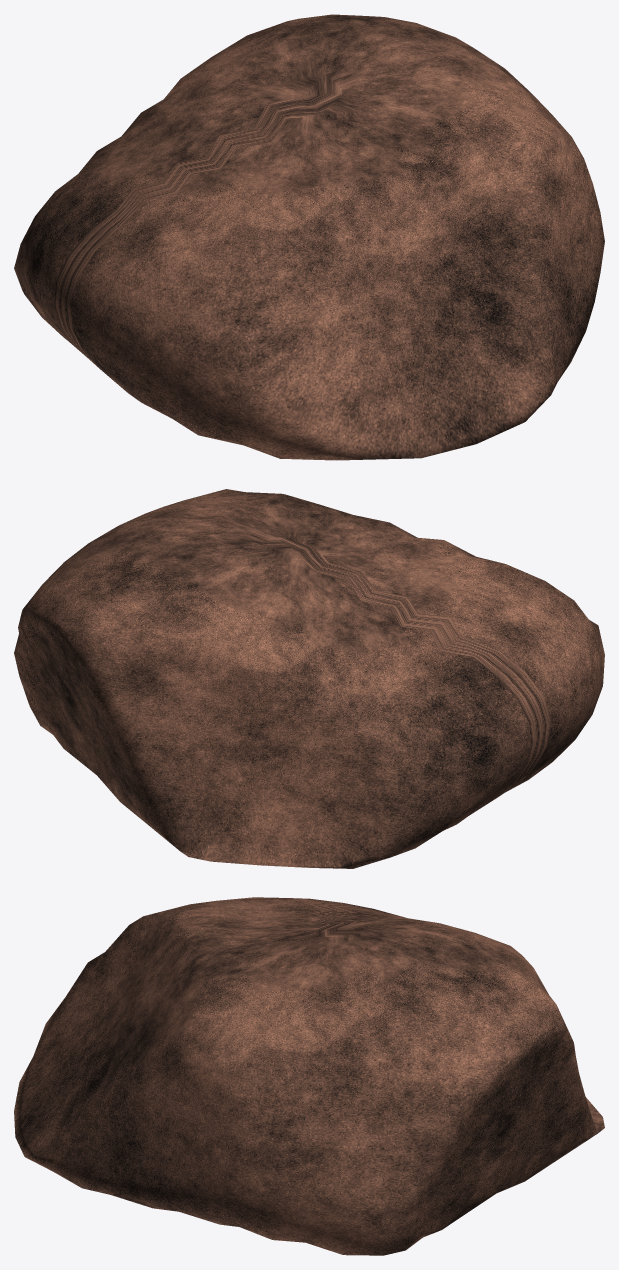
The model's file is rock_0.dae.
3 views of the same model, one above another, from view 1: azimuth 30°, elevation 25°; view 2: azimuth 150°, elevation 25°; view 3: azimuth 270°, elevation 25° (orthographic). The views are drawn at different scales.
Parts seen in each view (by area): view 1: rock_0-node; view 2: rock_0-node; view 3: rock_0-node.
Part boxes in pixels (<box>): rock_0-node: <box>14,14,604,460</box>; rock_0-node: <box>14,489,604,868</box>; rock_0-node: <box>14,897,604,1255</box>.
Size of the model in its own units: 1.68 by 1.71 by 0.7131.
1 material, 1 textured.
